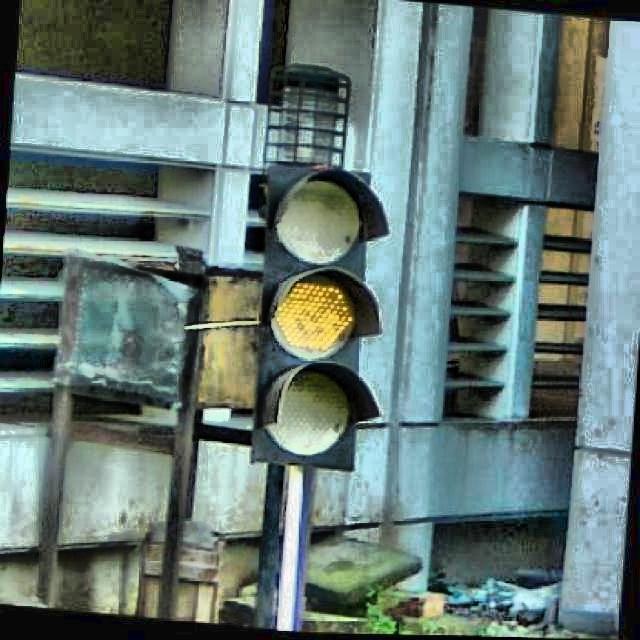yellow: (248, 162, 396, 478)
